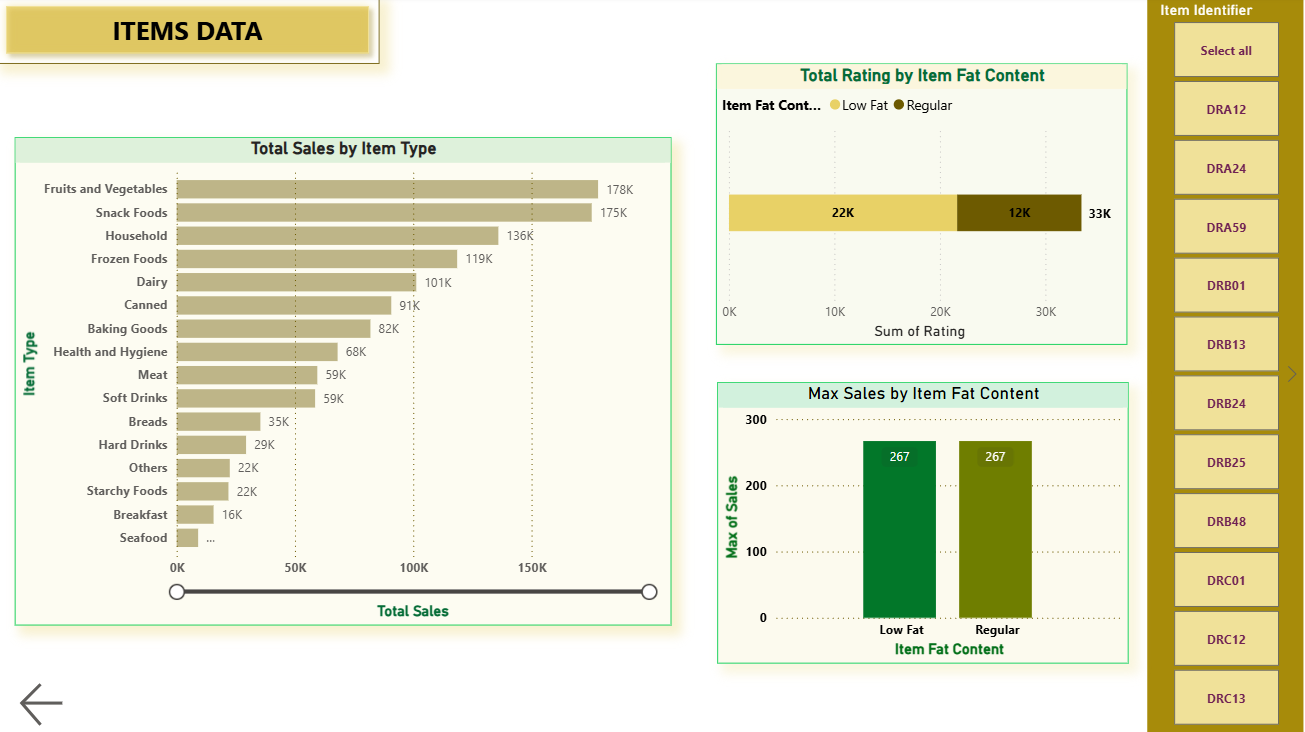

This screenshot's page, from the dashboard's own definition file:
{"tool":"powerbi","page":{"name":"ITEMS ","canvas":[1280,720],"ordinal":2},"visuals":[{"type":"shape","box":[0,0,375.1,66.4],"z":0},{"type":"barChart","fields":{"Category":["BlinkIT Grocery Data.Item Type"],"Y":["measure.Total Sales"]},"box":[18.8,138.5,642,477.6],"z":1},{"type":"slicer","fields":{"Values":["BlinkIT Grocery Data.Item Identifier"]},"box":[1126.8,0,152.9,719.9],"z":2},{"type":"barChart","title":"Total Rating by Item Fat Content","fields":{"Series":["BlinkIT Grocery Data.Item Fat Content"],"Y":["Sum(BlinkIT Grocery Data.Rating)"]},"box":[704.1,66.4,402.5,275.6],"z":3},{"type":"columnChart","title":"Max Sales by Item Fat Content","fields":{"Category":["BlinkIT Grocery Data.Item Fat Content"],"Y":["Max(BlinkIT Grocery Data.Sales)"]},"box":[705.5,378,402.5,275.6],"z":4},{"type":"actionButton","box":[18.8,666.6,86.6,53.4],"z":5}]}

Visuals, with their boxes in screenshot pixels (x1, y1, x2, y2), scaled from the page's 1280x720 canvas onto the 1305x732 screenshot:
shape: box(0, 0, 382, 68)
barChart - BlinkIT Grocery Data.Item Type x measure.Total Sales: box(19, 141, 674, 626)
slicer - BlinkIT Grocery Data.Item Identifier: box(1149, 0, 1304, 731)
"Total Rating by Item Fat Content" barChart: box(718, 68, 1128, 348)
"Max Sales by Item Fat Content" columnChart: box(719, 384, 1130, 664)
actionButton: box(19, 678, 107, 731)
